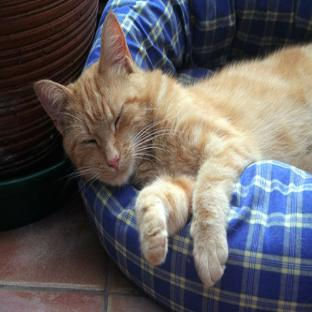Animal: (34, 12, 311, 285)
